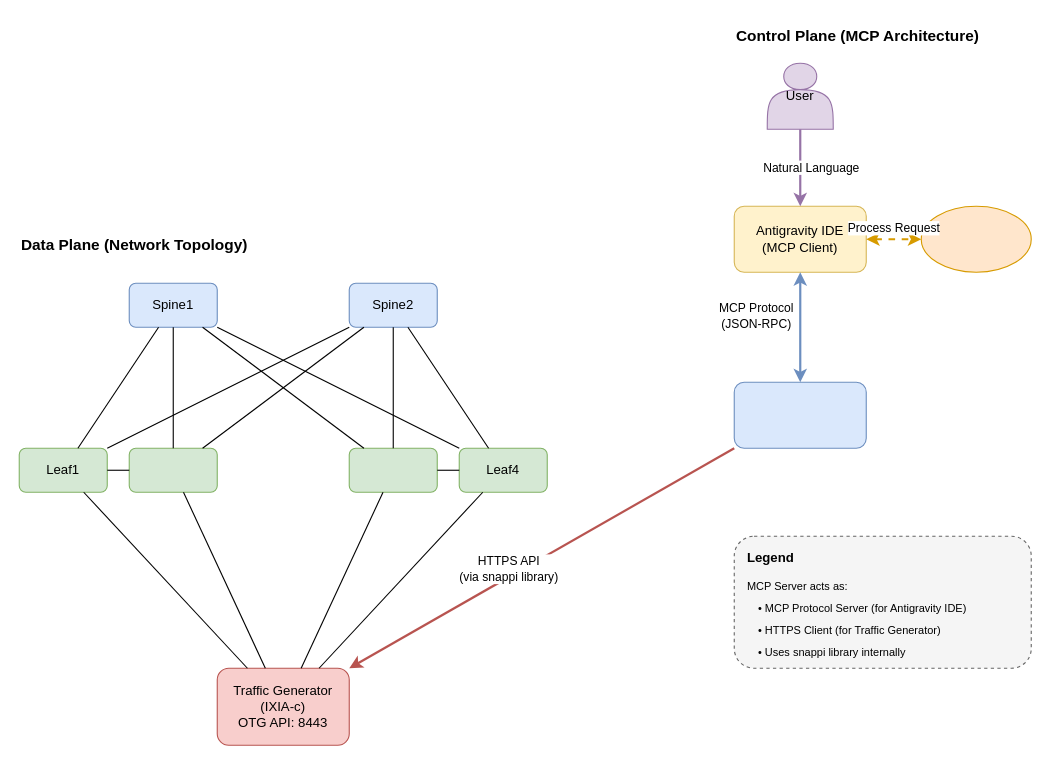
Some shapes in this 1062 by 765 pixel diagram are drawn without their labels. Each missing label, with the box of its shape:
Leaf2: (128, 447, 217, 492)
Leaf3: (348, 447, 437, 492)
LLM (Gemini): (920, 205, 1031, 272)
MCP Server (Python + snappi): (733, 381, 866, 448)
